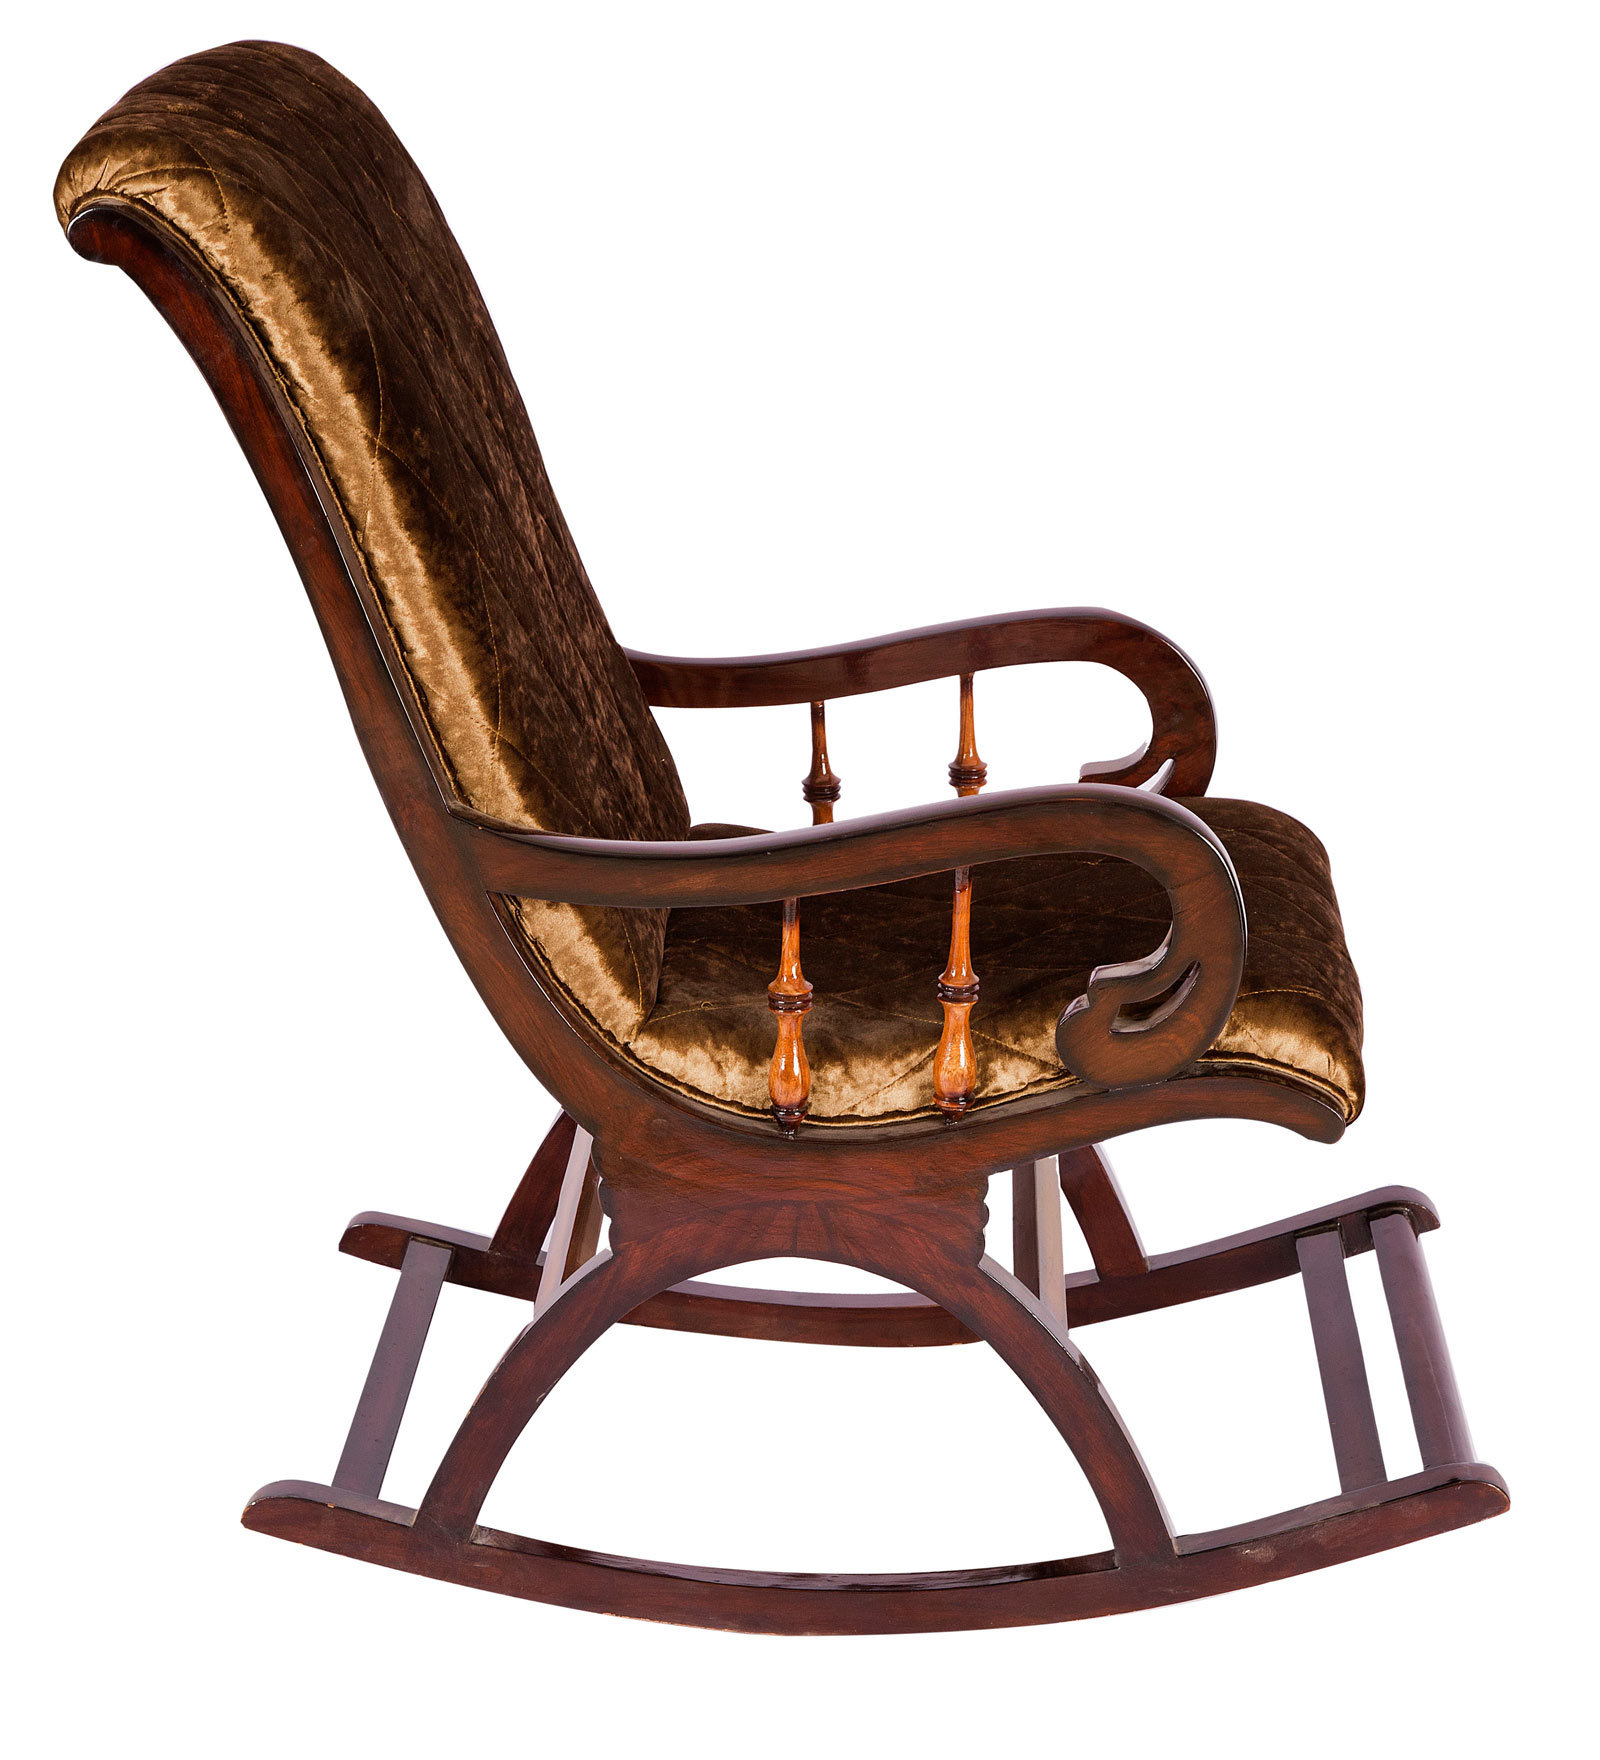Rocking Chair in Dark Brown Colour by Karigar: (34, 37, 1571, 1660)
